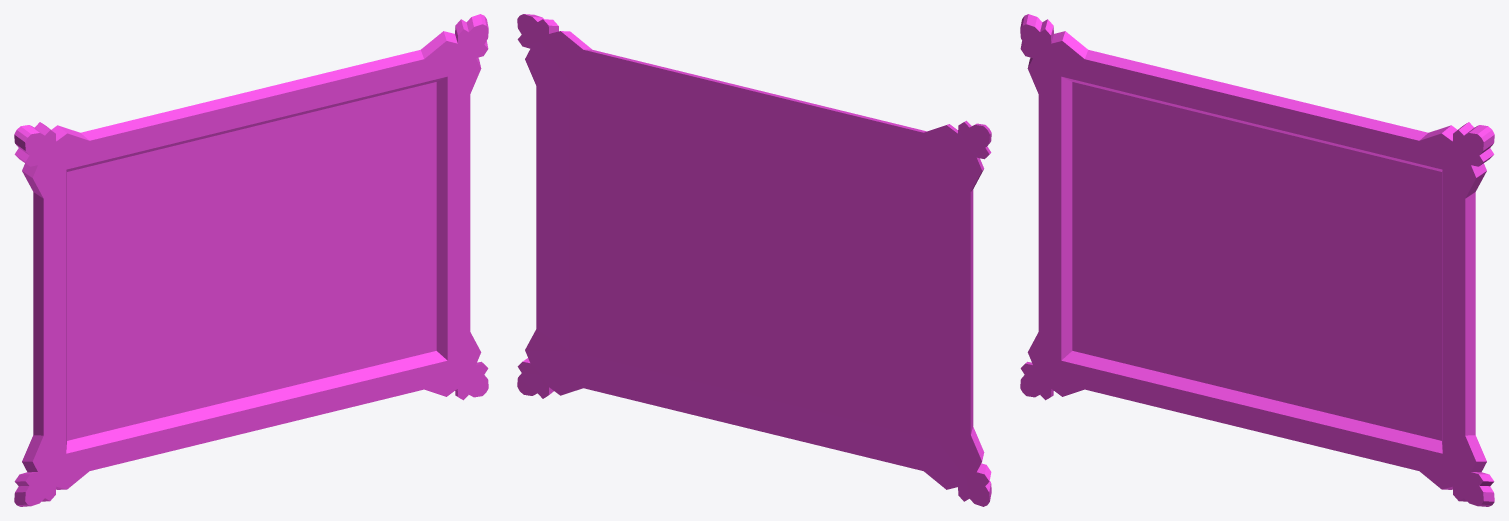
The model's file is SM_Picture_Griffin_Painting_Fantasy.fbx.
3 views of the same model, side by side, from view 1: azimuth 30°, elevation 25°; view 2: azimuth 150°, elevation 25°; view 3: azimuth 330°, elevation 25° (orthographic).
Parts seen in each view (by area): view 1: SM_Picture_Griffin_Painting_Fantasy; view 2: SM_Picture_Griffin_Painting_Fantasy; view 3: SM_Picture_Griffin_Painting_Fantasy.
Part boxes in pixels (box(x1,y1,x2,y2)): SM_Picture_Griffin_Painting_Fantasy: box(14, 14, 488, 506); SM_Picture_Griffin_Painting_Fantasy: box(517, 14, 991, 506); SM_Picture_Griffin_Painting_Fantasy: box(1020, 14, 1494, 506).
Bounding box in the file's own units: 1.95 × 1.5 × 0.0459.
